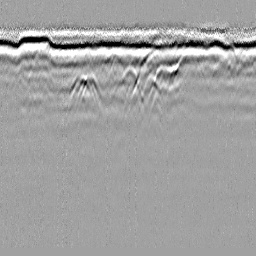cavity: (110, 63, 143, 103)
